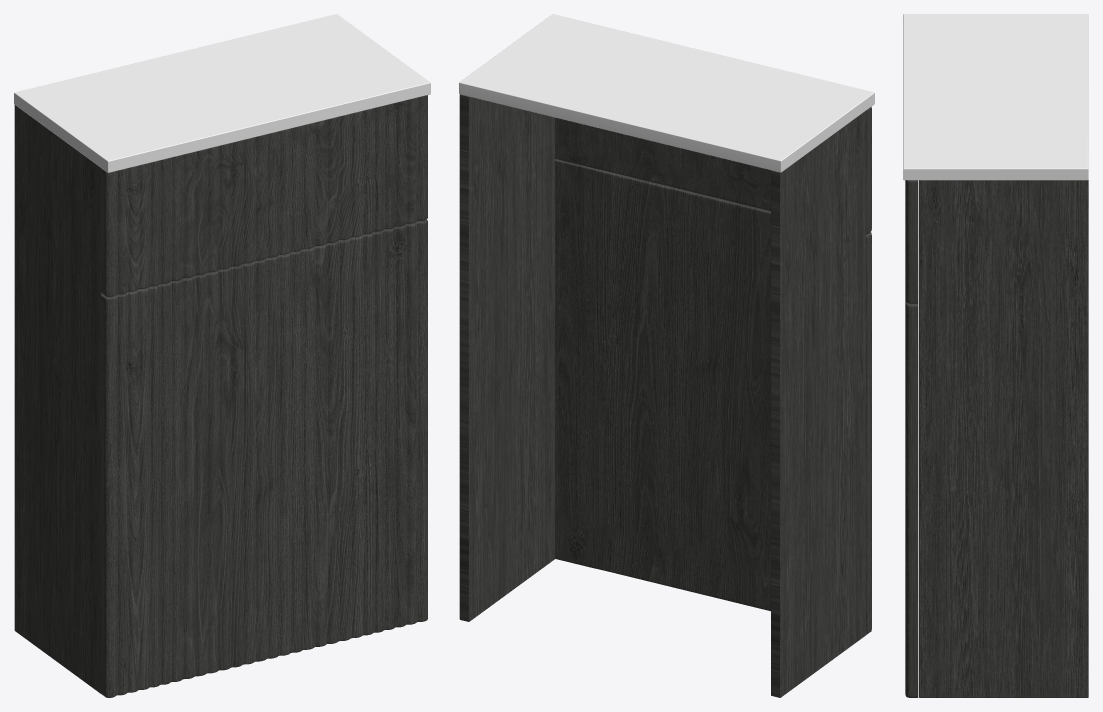
The picture shows the model from 3 angles, left to right: view 1: azimuth 30°, elevation 25°; view 2: azimuth 150°, elevation 25°; view 3: azimuth 270°, elevation 25°; orthographic projection.
Parts seen in each view (by area): view 1: Cylinder042; view 2: Cylinder042; view 3: Cylinder042.
Part boxes in pixels (bbox=[...]): Cylinder042: bbox=[14, 14, 430, 697]; Cylinder042: bbox=[459, 14, 874, 697]; Cylinder042: bbox=[903, 14, 1088, 697].
Size of the model in its own units: 0.5023 by 0.8001 by 0.2535.
2 materials, 1 textured.
